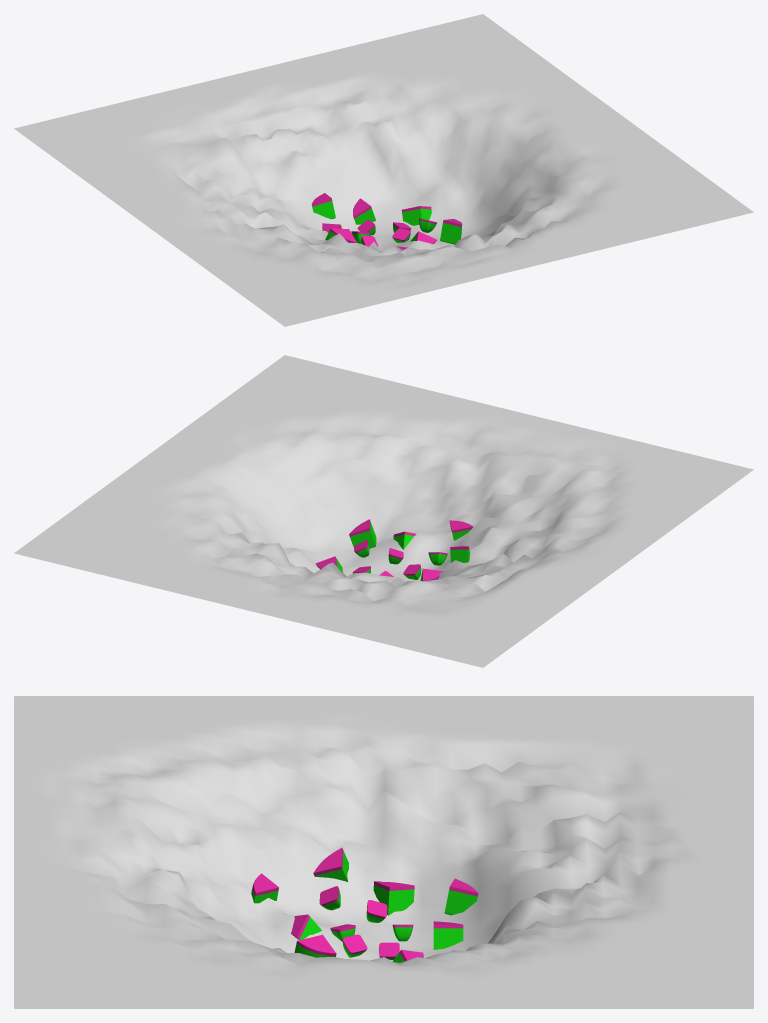
The model's file is PotholeMesh06Variant.fbx.
3 views of the same model, one above another, from view 1: azimuth 30°, elevation 25°; view 2: azimuth 150°, elevation 25°; view 3: azimuth 270°, elevation 25° (orthographic). The views are drawn at different scales.
Visible parts, largest first — view 1: Plano; view 2: Plano; view 3: Plano, Cubo.011, Cubo.013, Cubo.009, Cubo.001, Cubo.006, Cubo.012, Cubo.004.
Part boxes in pixels (x1,y1,x2,y2): Plano: (14, 14, 753, 326); Plano: (14, 355, 753, 667); Plano: (14, 696, 753, 1008); Cubo.011: (373, 881, 414, 915); Cubo.013: (444, 878, 478, 915); Cubo.009: (313, 847, 348, 881); Cubo.001: (433, 921, 463, 949); Cubo.006: (294, 934, 336, 957); Cubo.012: (251, 873, 278, 903); Cubo.004: (291, 914, 321, 940).
Size of the model in its own units: 50 by 50 by 7.81.
